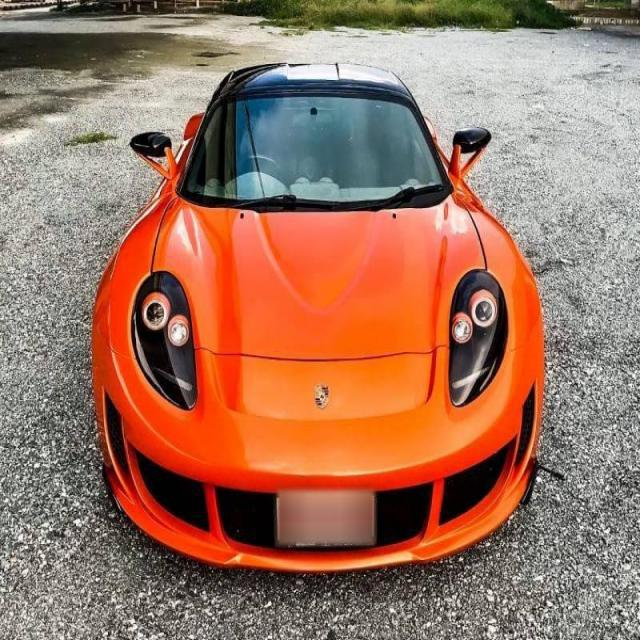front_bumper: (89, 314, 544, 575)
front_glass: (179, 97, 454, 213)
front_left_light: (449, 272, 510, 408)
front_right_light: (130, 270, 194, 414)
hood: (151, 191, 486, 362)
left_mirror: (452, 127, 494, 180)
right_mirror: (130, 130, 179, 178)
